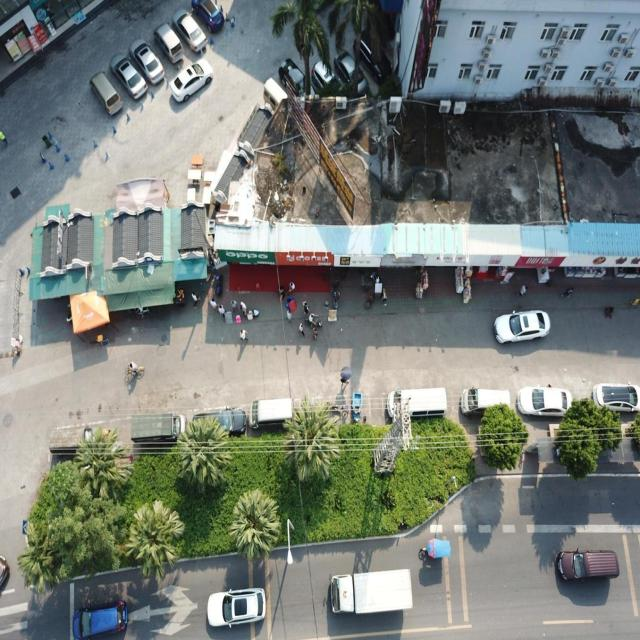p3rson: (190, 291, 201, 308), (515, 284, 528, 298), (560, 286, 574, 298), (127, 361, 138, 375), (297, 321, 306, 338), (0, 127, 8, 145), (285, 281, 295, 295), (239, 328, 249, 342), (302, 299, 310, 315), (277, 282, 284, 300), (230, 298, 238, 312), (240, 300, 247, 316), (340, 374, 349, 386), (218, 302, 225, 317), (285, 308, 292, 322), (209, 297, 216, 310), (313, 327, 318, 339)
